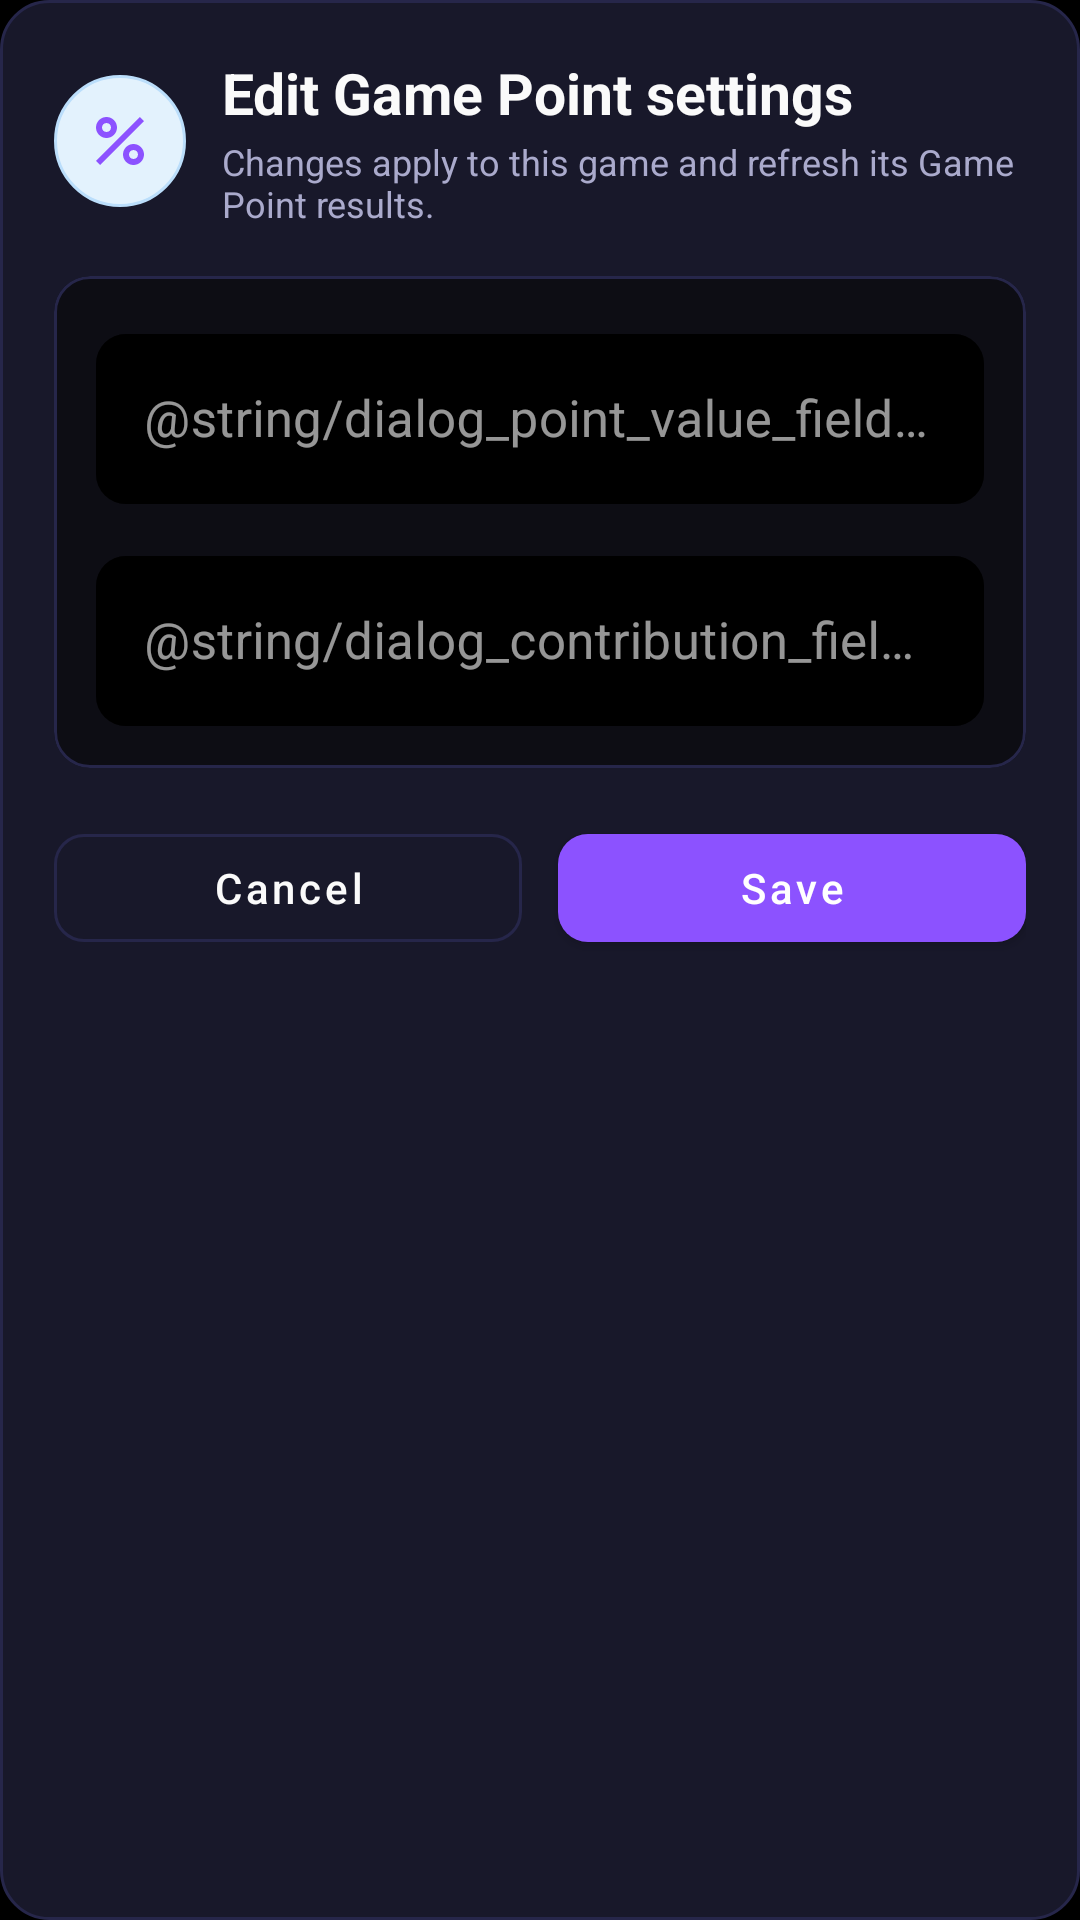

Icon bounding boxes for this 1080px x 1920px phone screenshot, format box=[x1, y1, x2, y2]:
percent: box=[54, 75, 186, 207]
